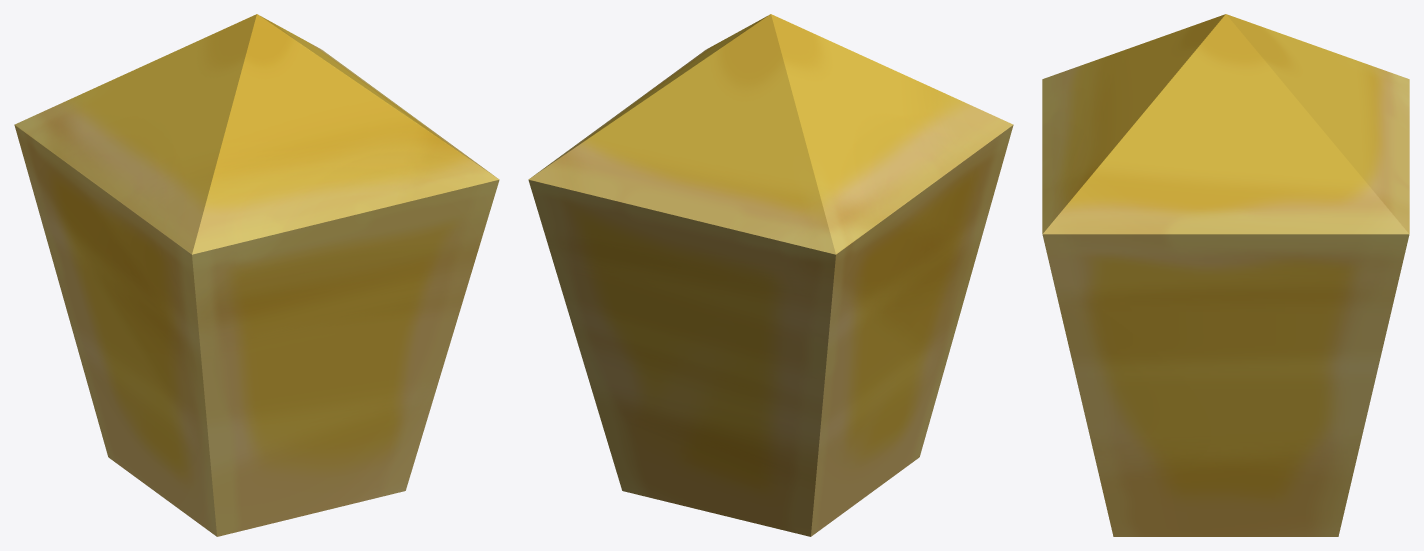
File: SmallBarrier.fbx
3 views of the same model, side by side, from view 1: azimuth 30°, elevation 25°; view 2: azimuth 150°, elevation 25°; view 3: azimuth 270°, elevation 25° (orthographic). The views are drawn at different scales.
Visible parts, largest first — view 1: Cube; view 2: Cube; view 3: Cube.
Part boxes in pixels (x1,y1,x2,y2): Cube: [14, 14, 499, 536]; Cube: [528, 14, 1013, 536]; Cube: [1042, 14, 1409, 536].
Size of the model in its own units: 200 by 286 by 200.
1 material, 1 textured.
